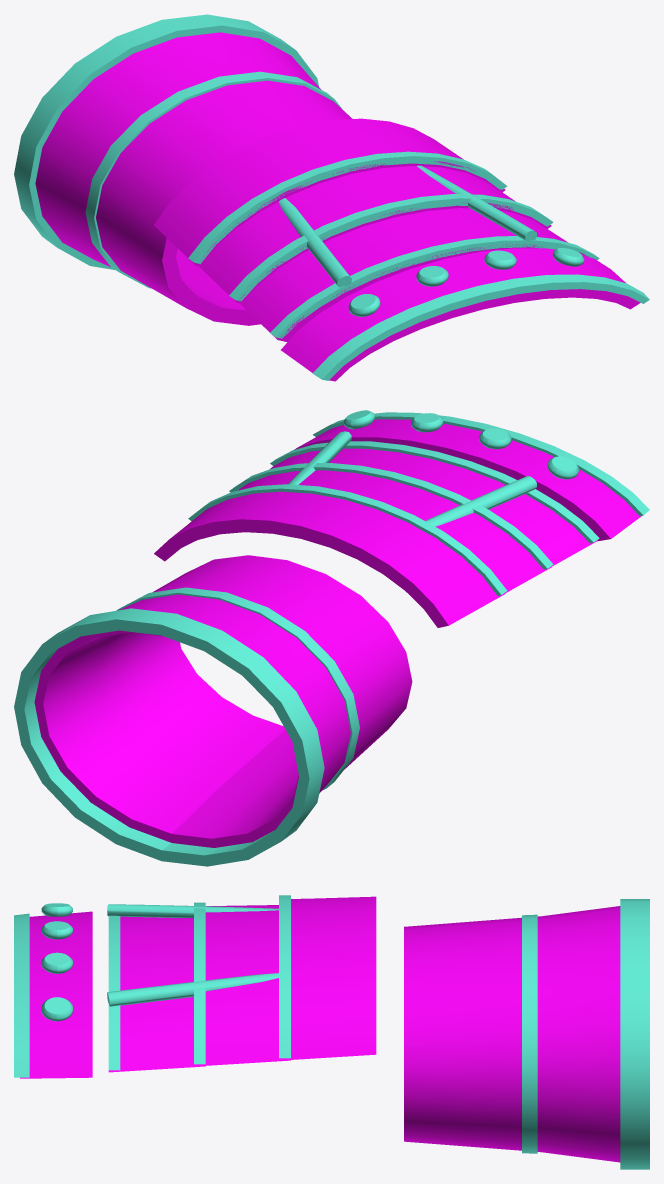
File: gantelet_armure5.glb
The picture shows the model from 3 angles, top to bottom: view 1: azimuth 30°, elevation 25°; view 2: azimuth 150°, elevation 25°; view 3: azimuth 270°, elevation 25°; orthographic projection.
Visible parts, largest first — view 1: main__gantelet_teinte, manchette__gantelet_teinte, main__gantelet_nano_lueur, manchette__gantelet_nano_lueur; view 2: manchette__gantelet_teinte, main__gantelet_teinte, manchette__gantelet_nano_lueur, main__gantelet_nano_lueur; view 3: manchette__gantelet_teinte, main__gantelet_teinte, main__gantelet_nano_lueur, manchette__gantelet_nano_lueur.
Boxes of the visible parts, left/top/right/bottom form: main__gantelet_teinte: left=154, top=118, right=640, bottom=381; manchette__gantelet_teinte: left=35, top=32, right=352, bottom=325; main__gantelet_nano_lueur: left=188, top=151, right=649, bottom=380; manchette__gantelet_nano_lueur: left=14, top=14, right=343, bottom=288; manchette__gantelet_teinte: left=34, top=555, right=412, bottom=847; main__gantelet_teinte: left=154, top=419, right=641, bottom=627; manchette__gantelet_nano_lueur: left=14, top=587, right=359, bottom=866; main__gantelet_nano_lueur: left=188, top=410, right=649, bottom=595; manchette__gantelet_teinte: left=404, top=906, right=620, bottom=1162; main__gantelet_teinte: left=20, top=896, right=376, bottom=1078; main__gantelet_nano_lueur: left=14, top=895, right=290, bottom=1077; manchette__gantelet_nano_lueur: left=522, top=899, right=649, bottom=1169.
Size of the model in its own units: 0.0952 by 0.065 by 0.1615.
